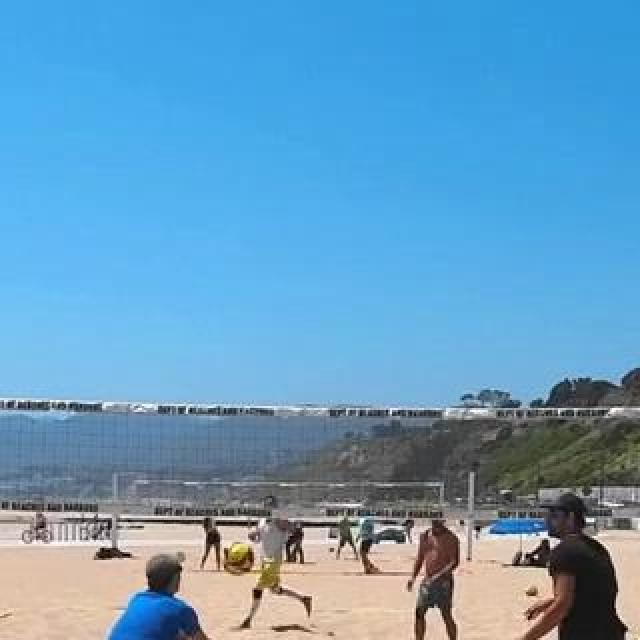volleyball: (225, 539, 255, 571)
